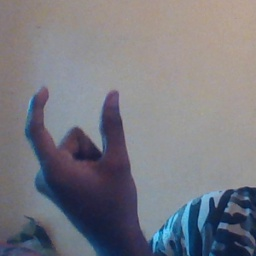U: (20, 78, 142, 220)
